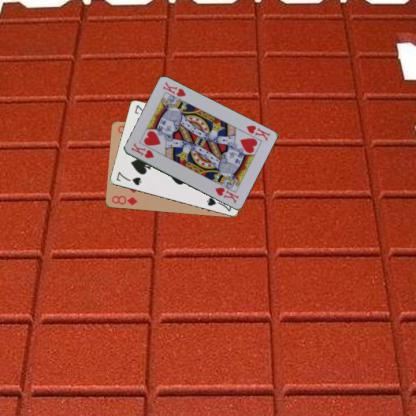7s: (114, 169, 142, 187)
8d: (109, 193, 138, 206)
Kh: (128, 140, 155, 160), (243, 123, 271, 142)
